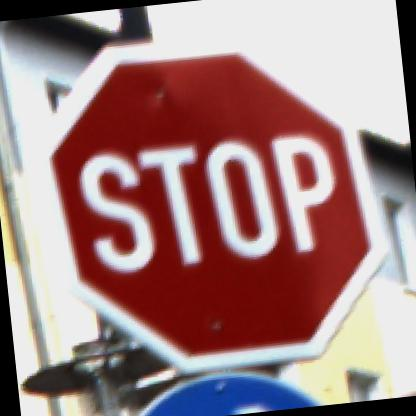stop: (28, 22, 403, 395)
